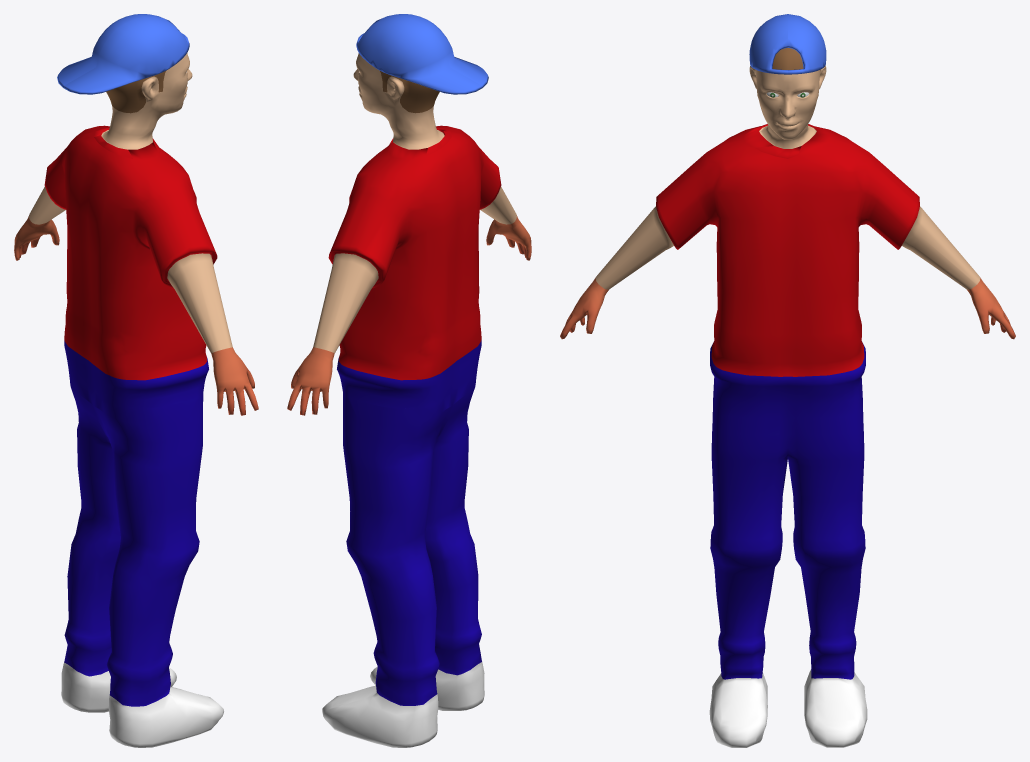
File: ModeladoPersonaje.fbx
3 views of the same model, side by side, from view 1: azimuth 30°, elevation 25°; view 2: azimuth 150°, elevation 25°; view 3: azimuth 270°, elevation 25° (orthographic).
Visible parts, largest first — view 1: Cuerpo completo smooth; view 2: Cuerpo completo smooth; view 3: Cuerpo completo smooth.
Boxes of the visible parts, left/top/right/bottom form: Cuerpo completo smooth: left=14, top=14, right=258, bottom=747; Cuerpo completo smooth: left=287, top=14, right=531, bottom=747; Cuerpo completo smooth: left=560, top=14, right=1015, bottom=747.
Size of the model in its own units: 33.81 by 169 by 99.06.
